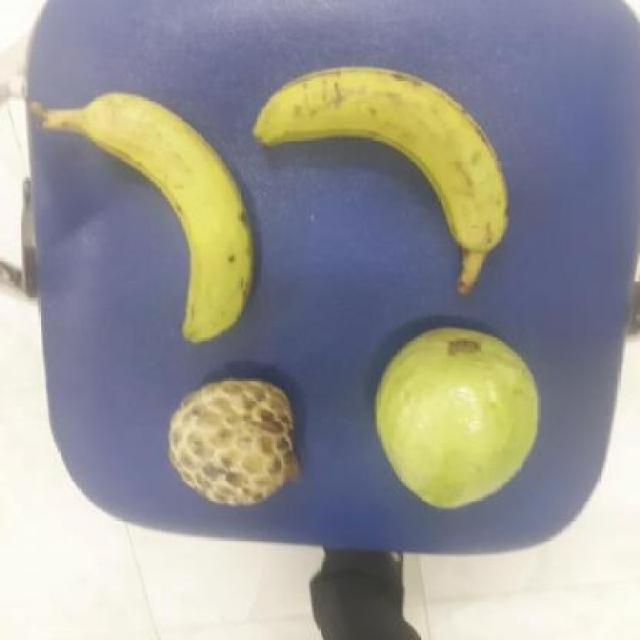banana: (253, 73, 521, 269), (82, 92, 262, 343)
guava: (376, 330, 553, 505), (170, 378, 305, 505)
sugar apple: (170, 377, 308, 508)
